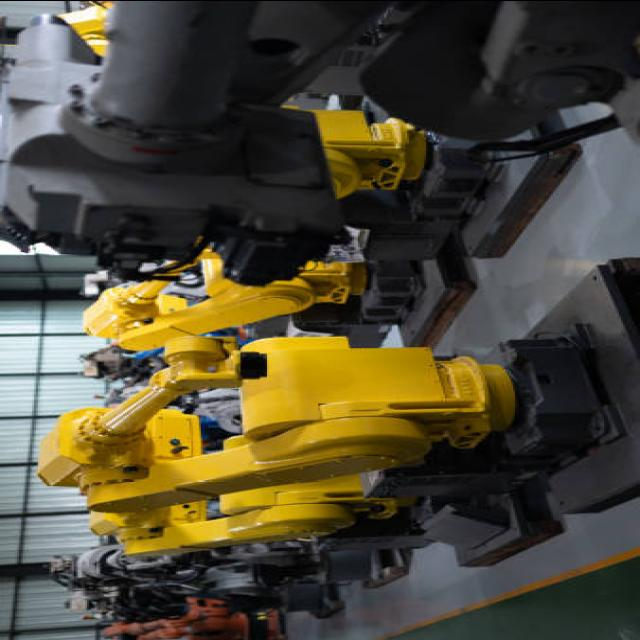Robotic-arm: (32, 331, 572, 508)
